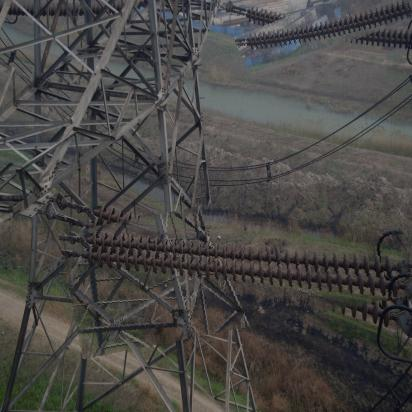insulator: (64, 185, 412, 345), (236, 1, 412, 65)
